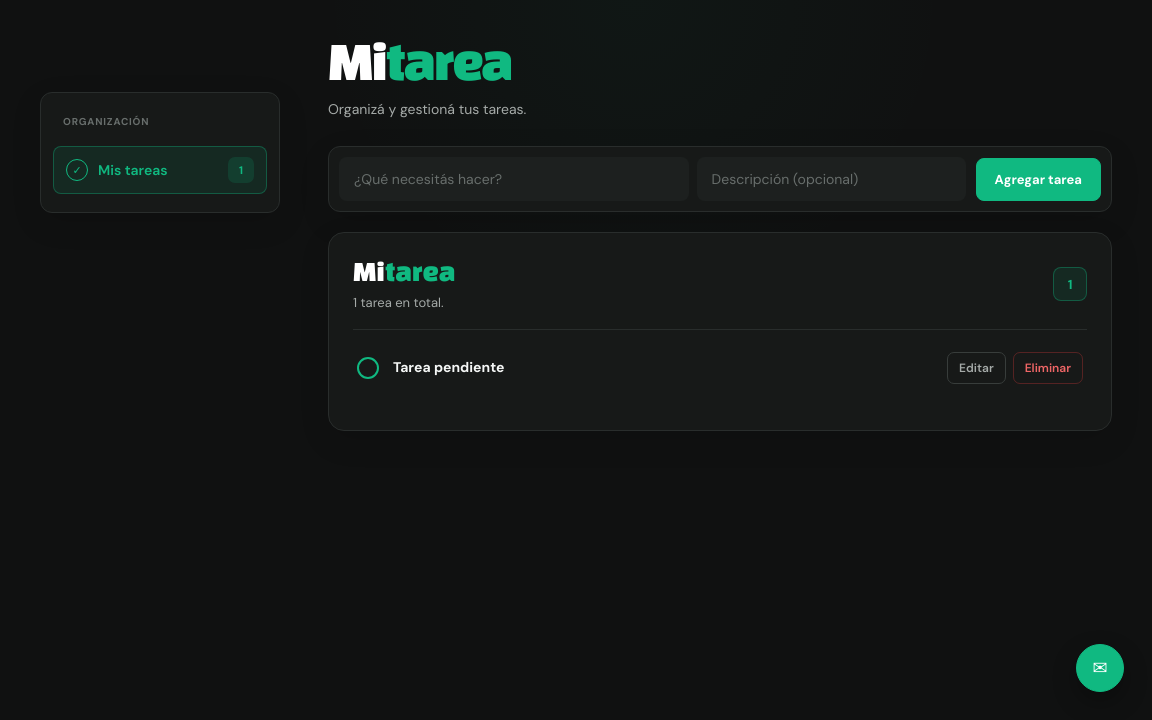
Test case: Tasks Page Component › 9. Error del serverless al enviar el email: muestra mensaje de error al fallar el fetch
Click the button named "Enviar resumen por email": [1100, 668] box x1=1076 y1=644 x2=1124 y2=692
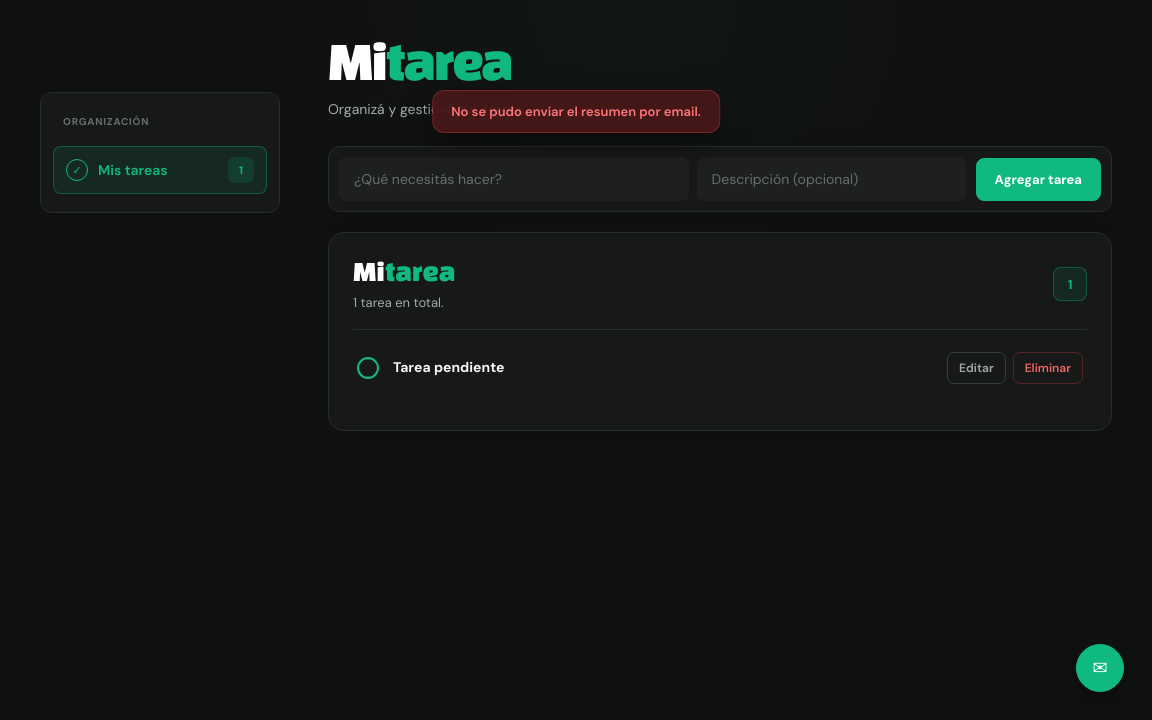
Expected: the text "No se pudo enviar el resumen por email." is shown, x1=432 y1=90 x2=720 y2=133
